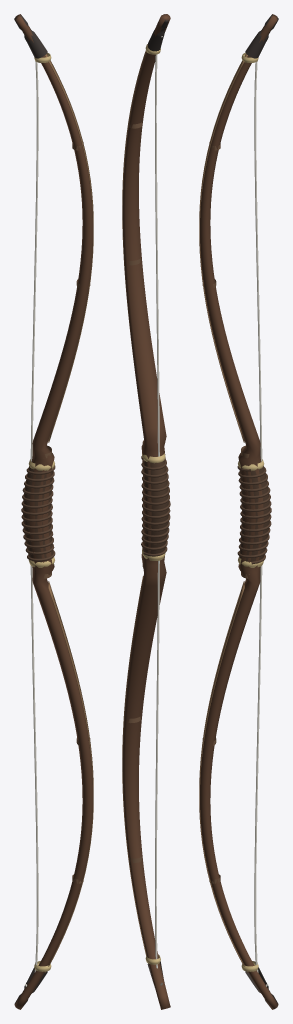
Rendered from bow.glb.
3 renders of one model, left to right at view 1: azimuth 90°, elevation 25°; view 2: azimuth 210°, elevation 25°; view 3: azimuth 270°, elevation 25°, orthographic.
Visible parts, largest first — view 1: Bow_Hardwood_Core, Bowstring_Main, Bow_Belly_Laminate, Grip_Leather_Strapping, Grip_Foundation, Tip_Koti_Upper; view 2: Bow_Hardwood_Core, Bowstring_Main, Grip_Leather_Strapping, Grip_Foundation, Bow_Belly_Laminate, Tip_Koti_Upper; view 3: Bow_Hardwood_Core, Bowstring_Main, Bow_Belly_Laminate, Grip_Leather_Strapping, Grip_Foundation, Tip_Koti_Upper.
Boxes of the visible parts, x1,y1,x2,y2 form: Bow_Hardwood_Core: [14, 14, 92, 1009]; Bowstring_Main: [25, 39, 38, 986]; Bow_Belly_Laminate: [44, 54, 93, 972]; Grip_Leather_Strapping: [21, 465, 55, 561]; Grip_Foundation: [23, 466, 53, 562]; Tip_Koti_Upper: [14, 15, 47, 58]; Bow_Hardwood_Core: [122, 14, 170, 1009]; Bowstring_Main: [155, 36, 162, 985]; Grip_Leather_Strapping: [141, 456, 170, 556]; Grip_Foundation: [143, 460, 168, 553]; Bow_Belly_Laminate: [122, 46, 147, 956]; Tip_Koti_Upper: [147, 14, 169, 51]; Bow_Hardwood_Core: [200, 14, 278, 1009]; Bowstring_Main: [254, 39, 267, 986]; Bow_Belly_Laminate: [199, 54, 248, 972]; Grip_Leather_Strapping: [237, 466, 271, 564]; Grip_Foundation: [239, 466, 269, 561]; Tip_Koti_Upper: [245, 15, 278, 58].
Size of the model in its own units: 0.0462 by 1.82 by 0.1319.
